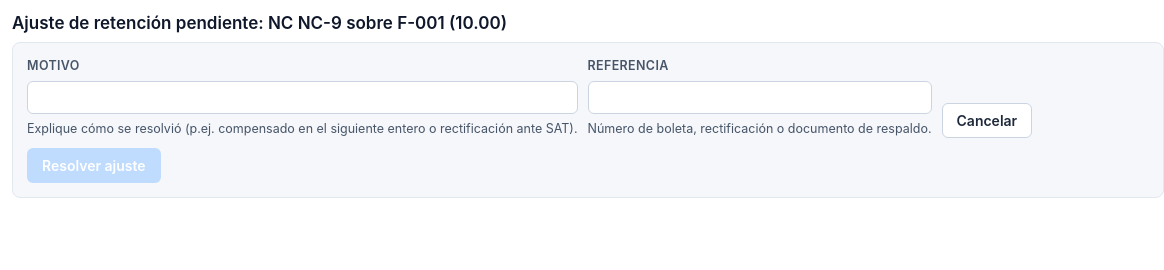
Test: ResolverAjusteDialog › muestra el error del servidor cuando la resolución falla
Expected: the heading "Ajuste de retención pendiente: NC NC-9 sobre F-001 (10.00)" is shown, 12,13 -> 507,33
Type "Confirmado" into the field labelled "Motivo" at (302, 98), box 27,81 -> 578,114
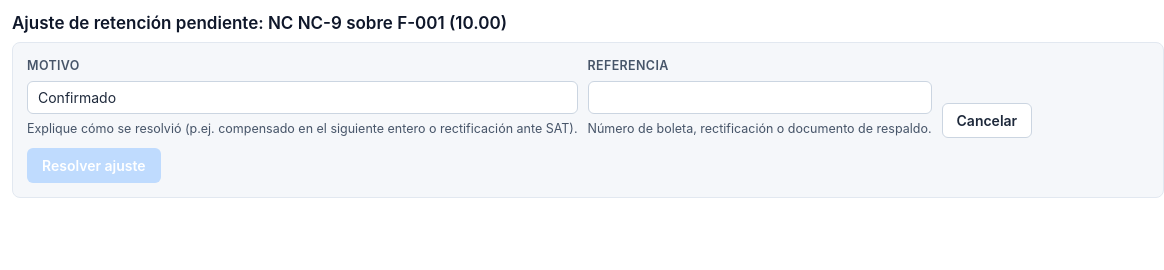
Type "NC-9" into the field labelled "Referencia" at (760, 98), box 588,81 -> 932,114
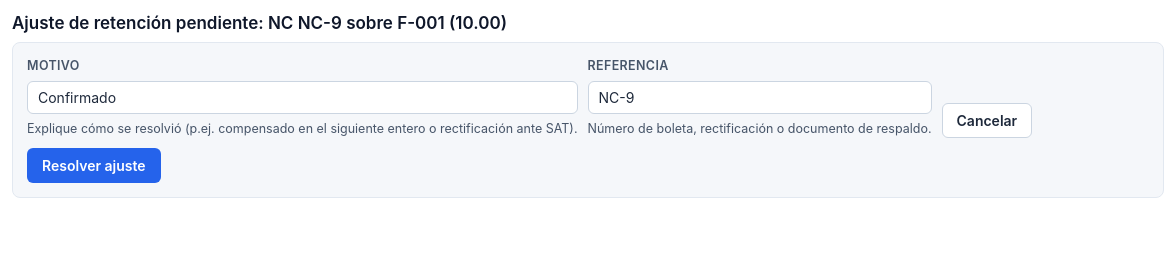
Click the button "Resolver ajuste" at (94, 166), box 27,148 -> 161,183
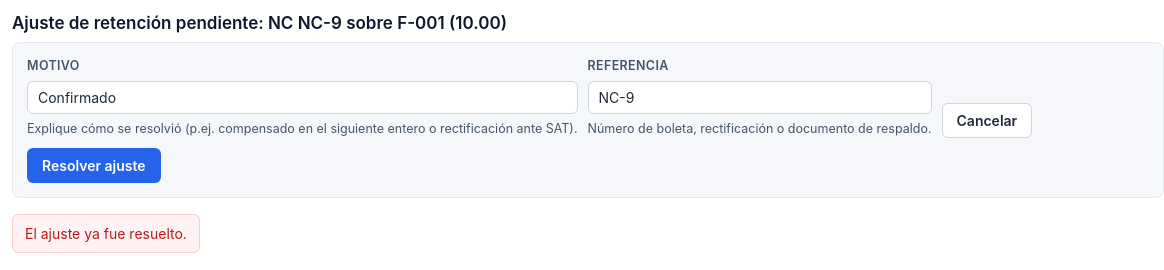
Now the text "El ajuste ya fue resuelto." is shown, box 12,214 -> 200,253
